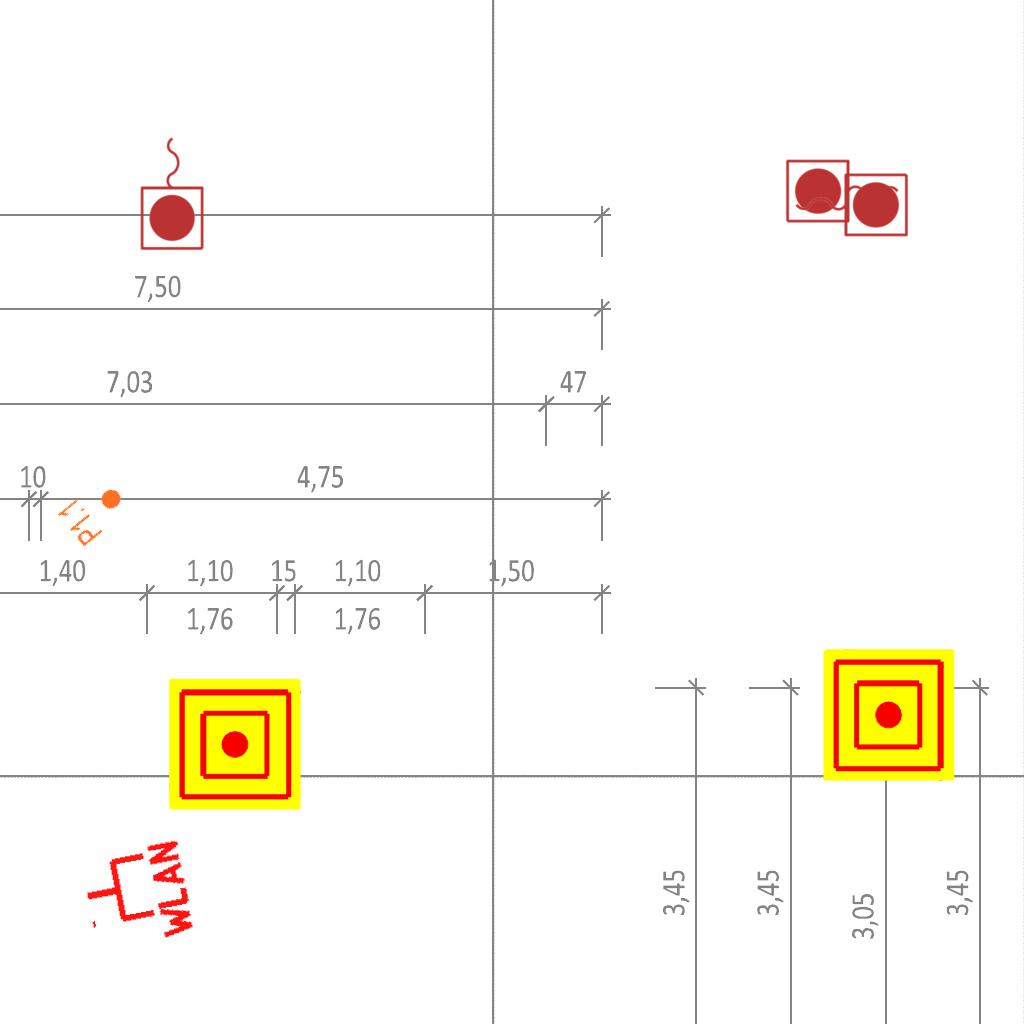Downlight_LED_Einbauleuchten_Flur: (54, 472, 134, 550)
NAM-Nichtautomatischer_Melder: (823, 649, 955, 781), (169, 678, 301, 810)
WLAN: (75, 834, 198, 958)
Zugtaster: (137, 132, 209, 254), (782, 156, 904, 228), (790, 168, 912, 240)
